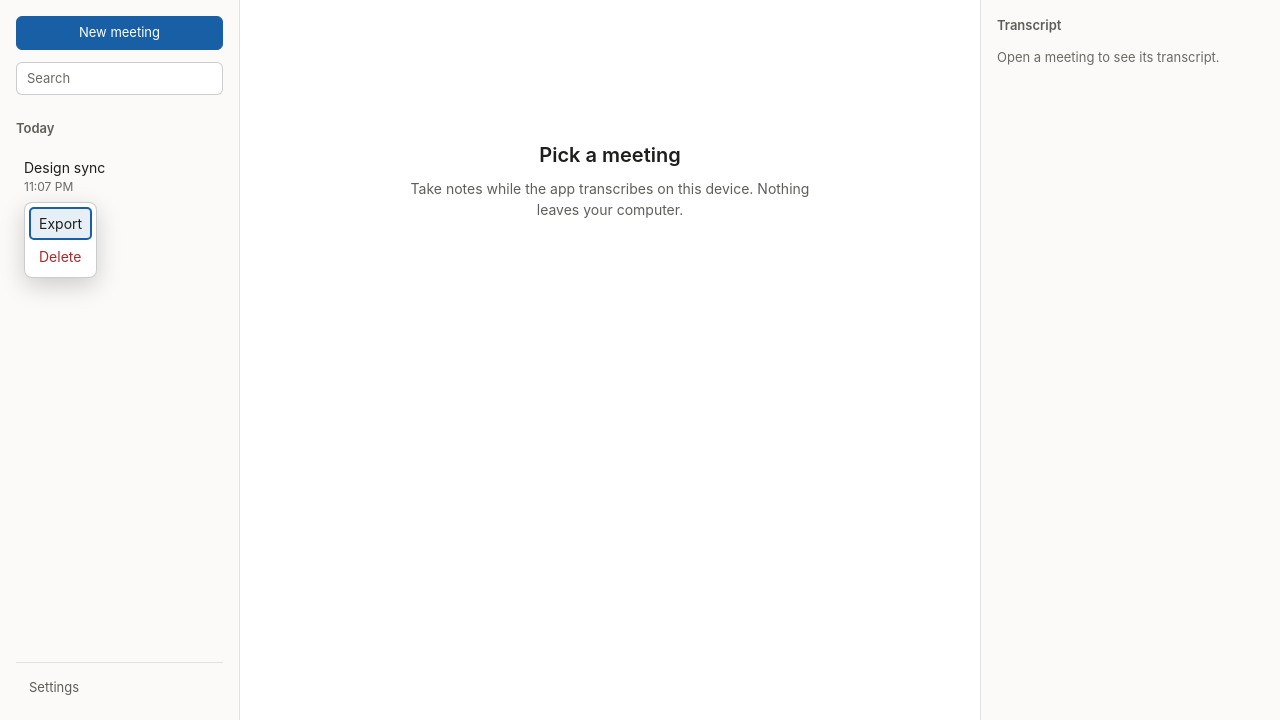
Test case: App › meeting menu › closes when you click elsewhere
Click the button "New meeting".
click(120, 33)  # box [16,16,223,50]
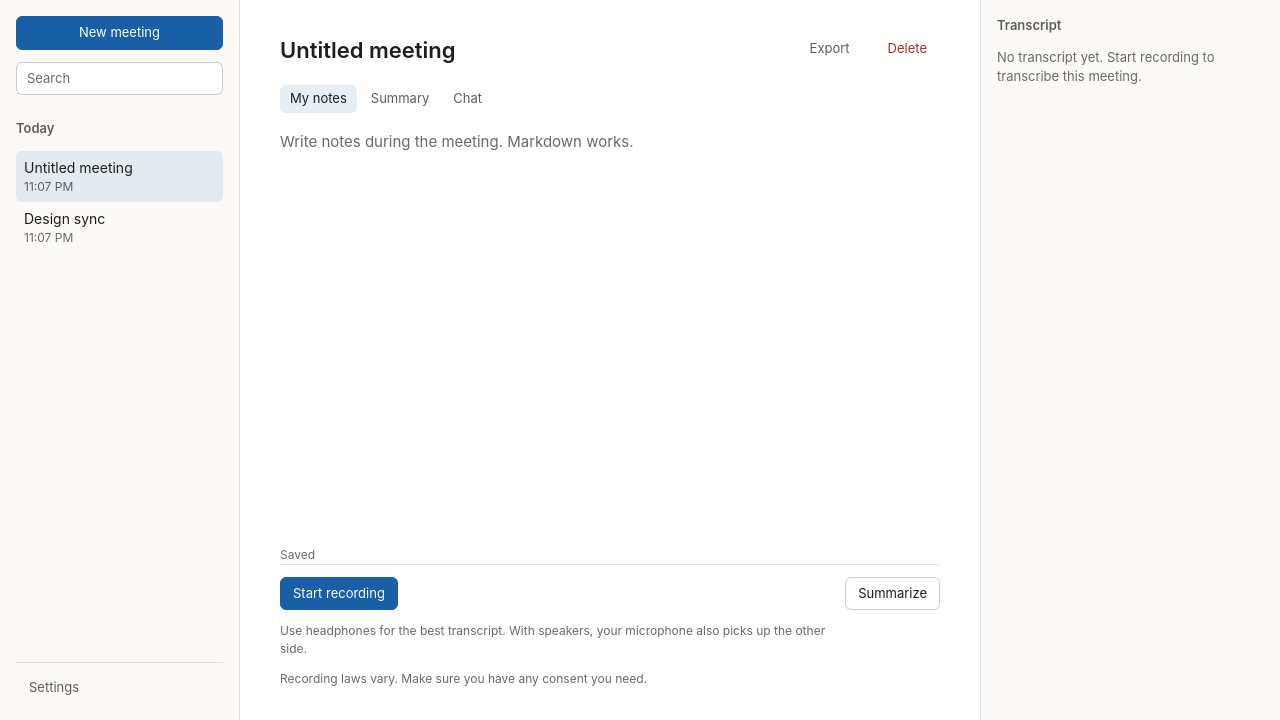
expect the menu is gone: met
